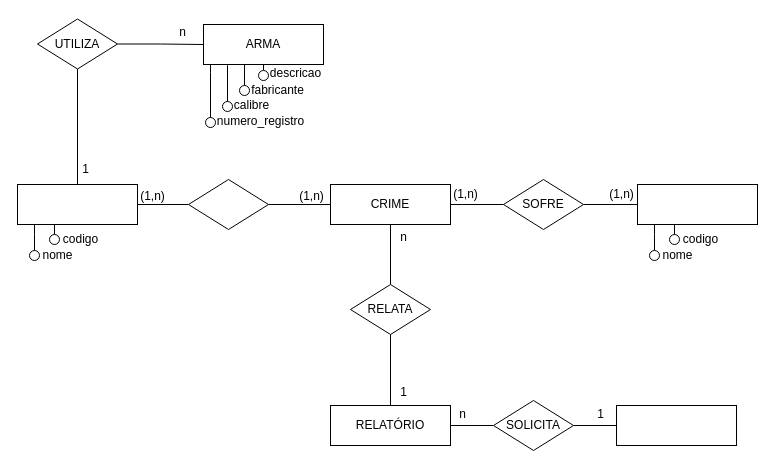
Some shapes in this 775 by 468 pixel diagram are drawn without their labels. The centre of each missing label's shape, as x and y in pixels:
"CHEFE DE DELEGACIA" goes at [676,425].
"COMETE" goes at [228,204].
"CRIMINOSO" goes at [77,204].
"VITIMA" goes at [697,204].
